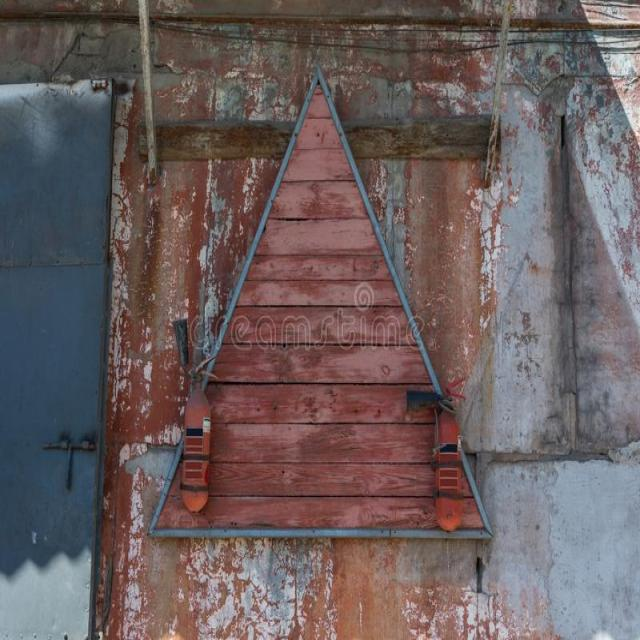fire_extinguisher: (168, 314, 222, 516), (402, 375, 468, 535)
